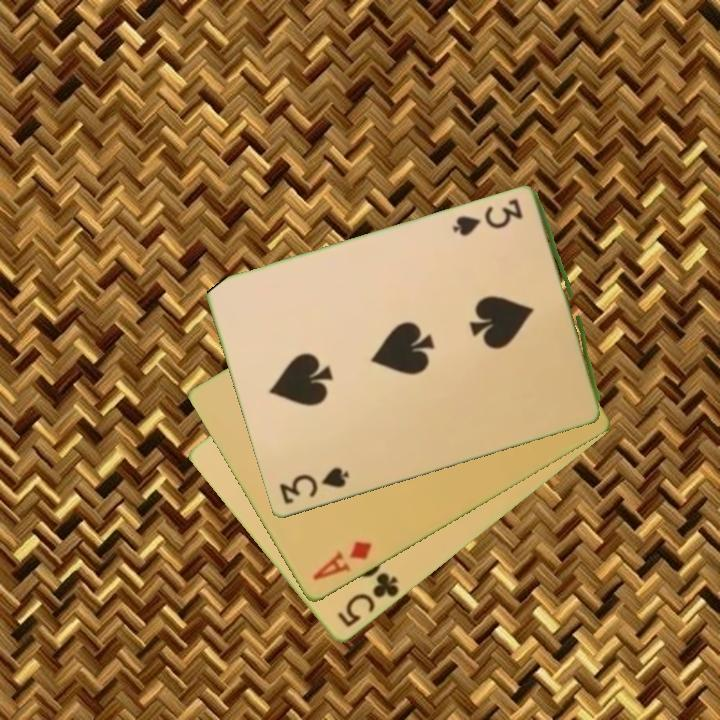3s: (275, 464, 352, 508), (452, 195, 526, 240)
5c: (333, 569, 402, 631)
Ad: (309, 537, 375, 584)
